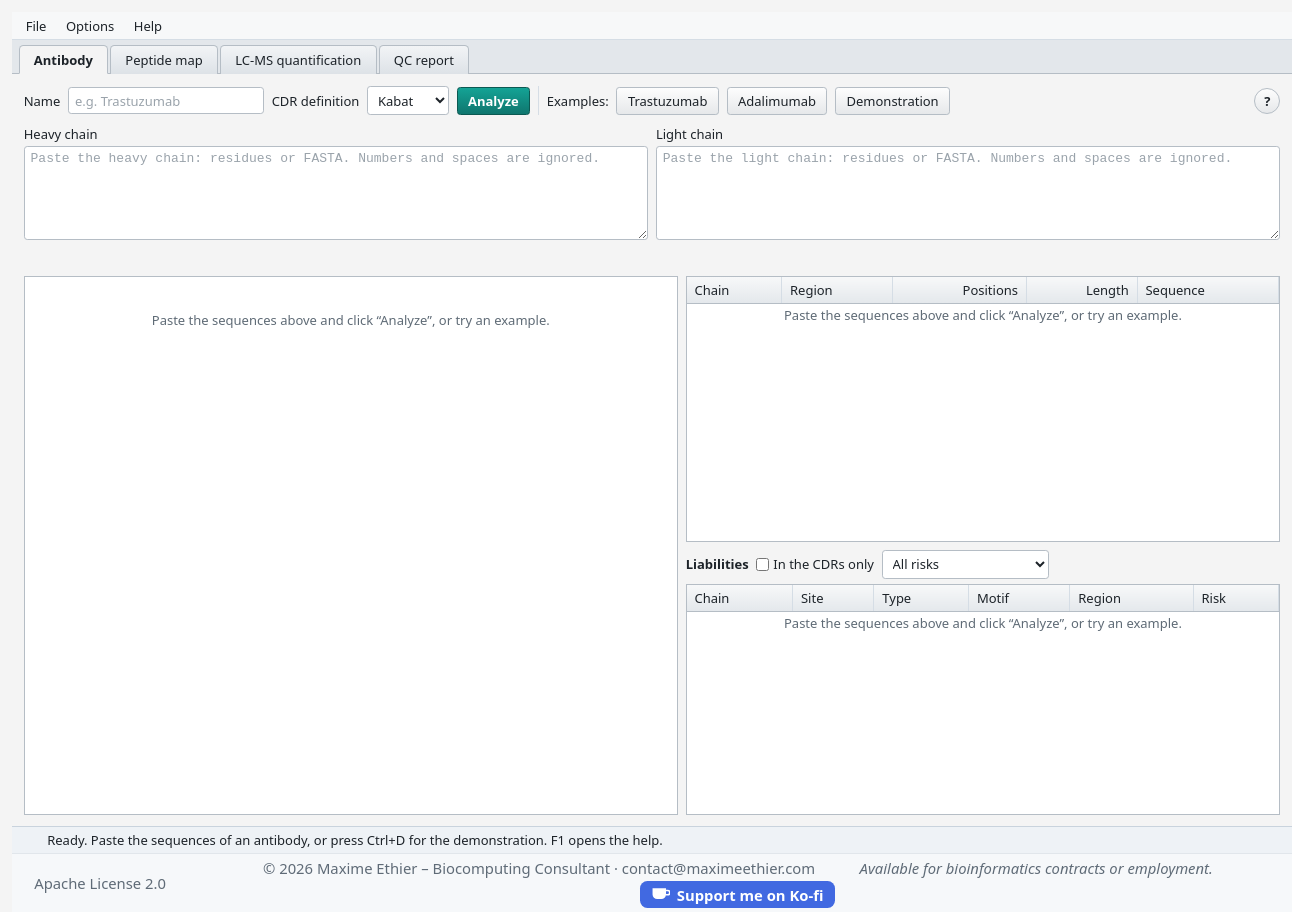
Test: Peptide map tab › refuses a minimum length above the maximum
Click the tab "Peptide map" at (164, 60), box [110, 45, 218, 74]
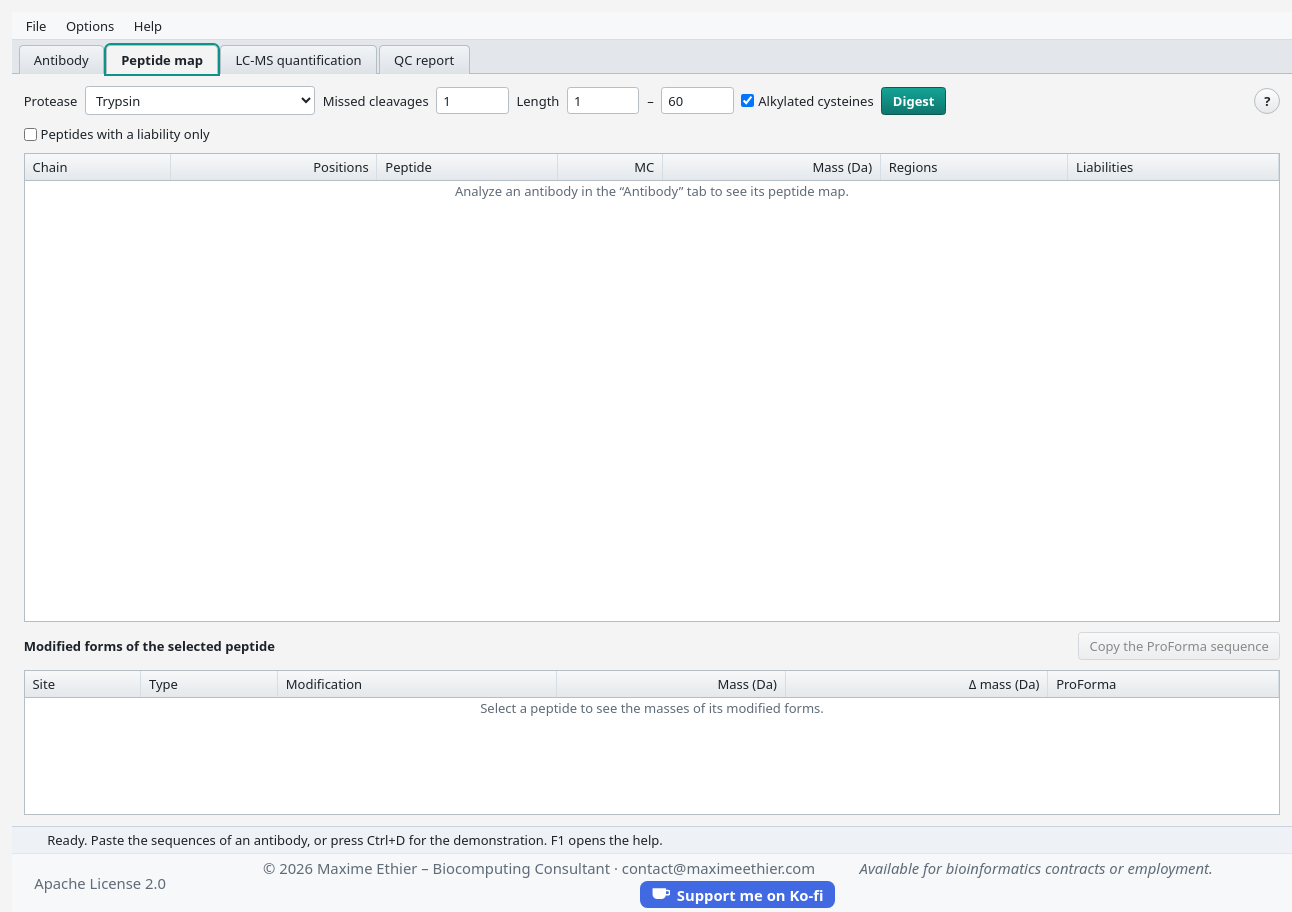
Expected: the text "Analyze an antibody in the “Antibody” tab" is shown, [455, 182, 849, 200]
Replace the text in the number field with id "min-length" with "70" at (603, 101), box [567, 87, 639, 114]
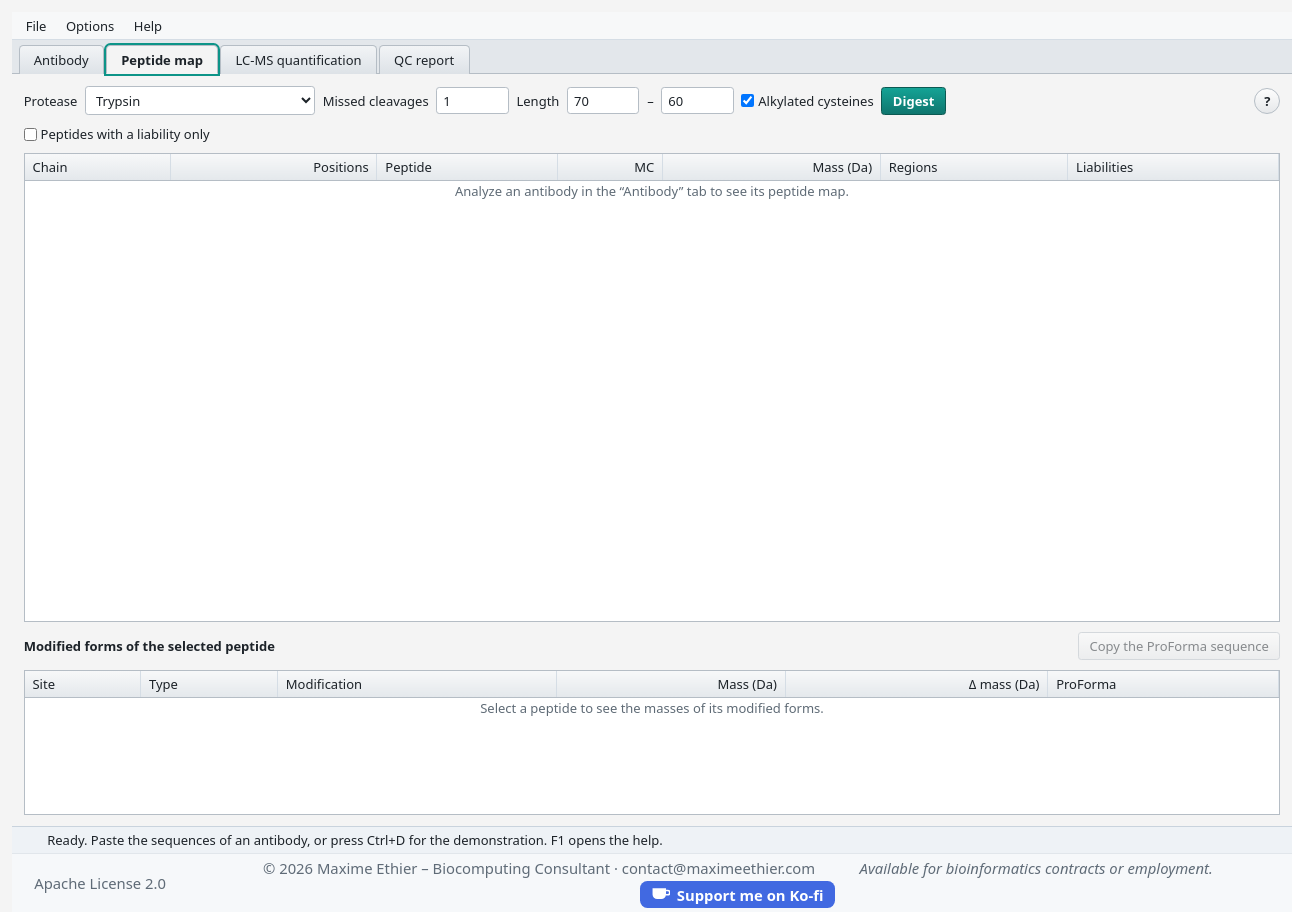
Click the button "Digest" at (914, 101), box [882, 87, 946, 115]
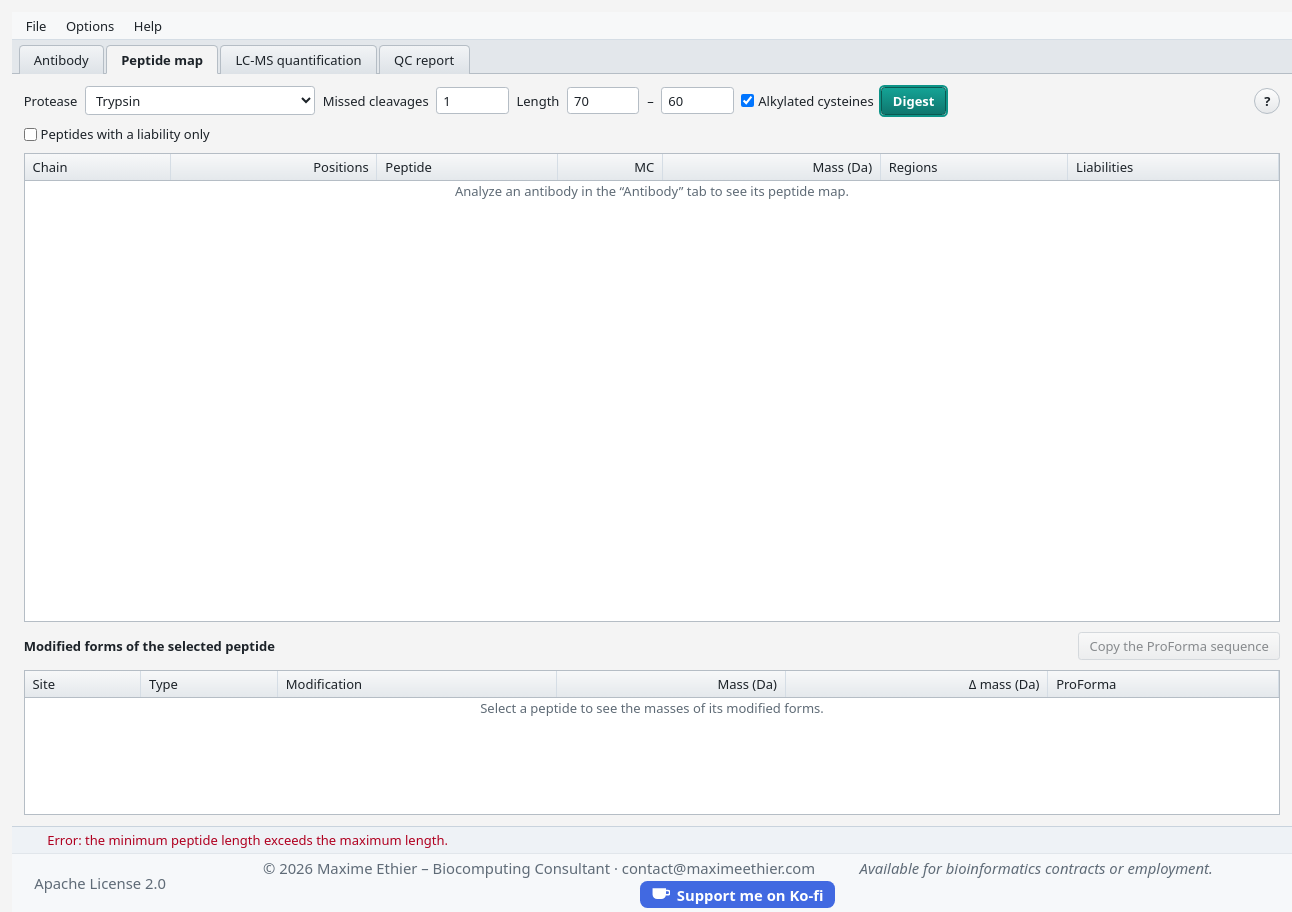
Expected: the message reads "Error: the minimum peptide length exceeds the maximum length.", [47, 831, 448, 849]
